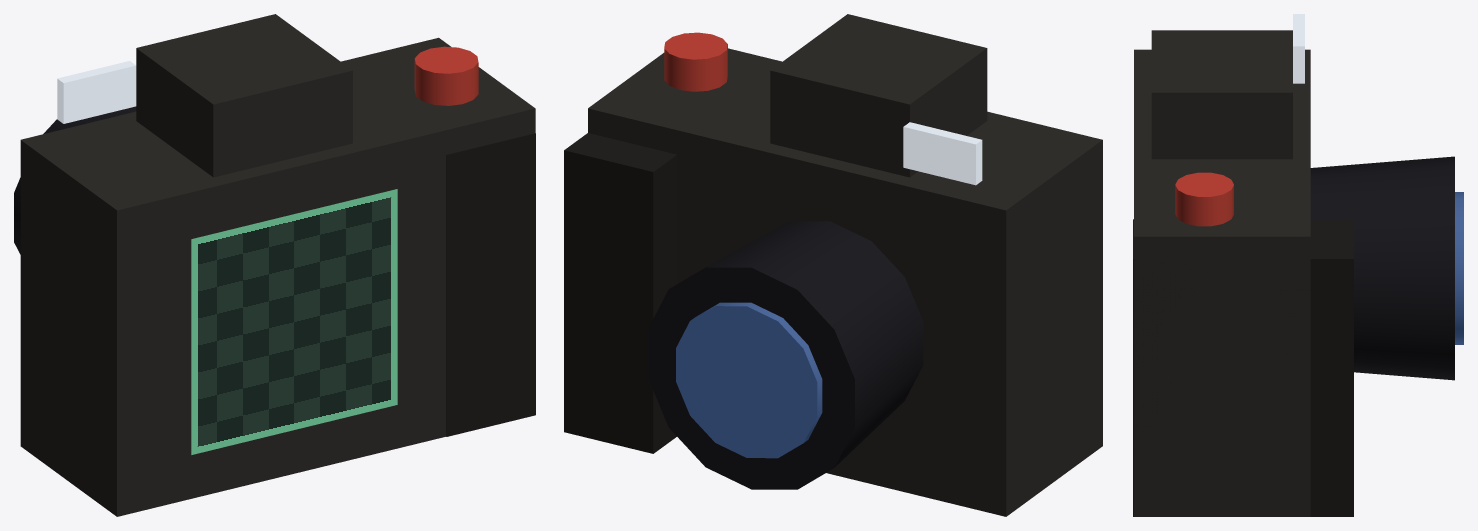
File: camera.glb
3 views of the same model, side by side, from view 1: azimuth 30°, elevation 25°; view 2: azimuth 150°, elevation 25°; view 3: azimuth 270°, elevation 25° (orthographic). The views are drawn at different scales.
Parts seen in each view (by area): view 1: camera; view 2: camera; view 3: camera.
Boxes of the visible parts, box(x1,y1,x2,y2) form: camera: box(14, 14, 535, 516); camera: box(564, 14, 1102, 516); camera: box(1133, 14, 1463, 516).
Bounding box in the file's own units: 0.15 × 0.13 × 0.113.
Materials: 7 (1 with a texture image).
